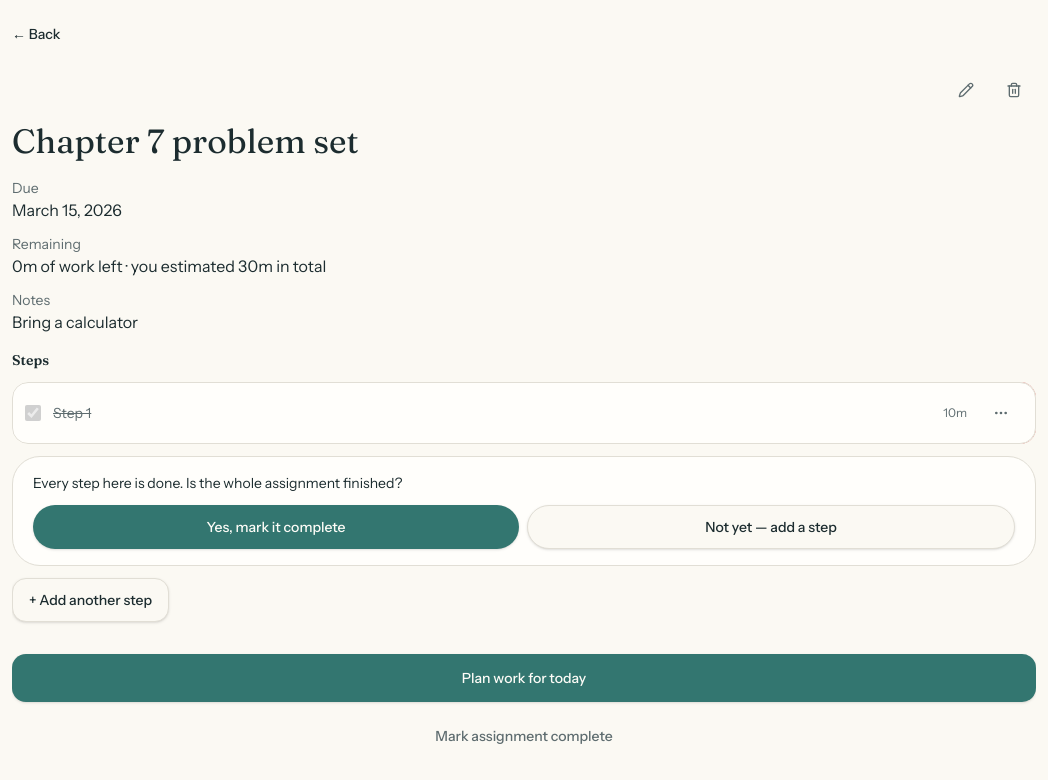
Test: AssignmentDetailPage › warns that progress will be erased when a step is already complete
The width and height of the screenshot is (1048, 780).
Check: the heading "Chapter 7 problem set" is shown, box [12, 120, 359, 162]
Check: the text "Step 1" is shown, box [53, 404, 91, 422]
Click the button named "delete assignment" at (1014, 90), box [992, 68, 1036, 112]
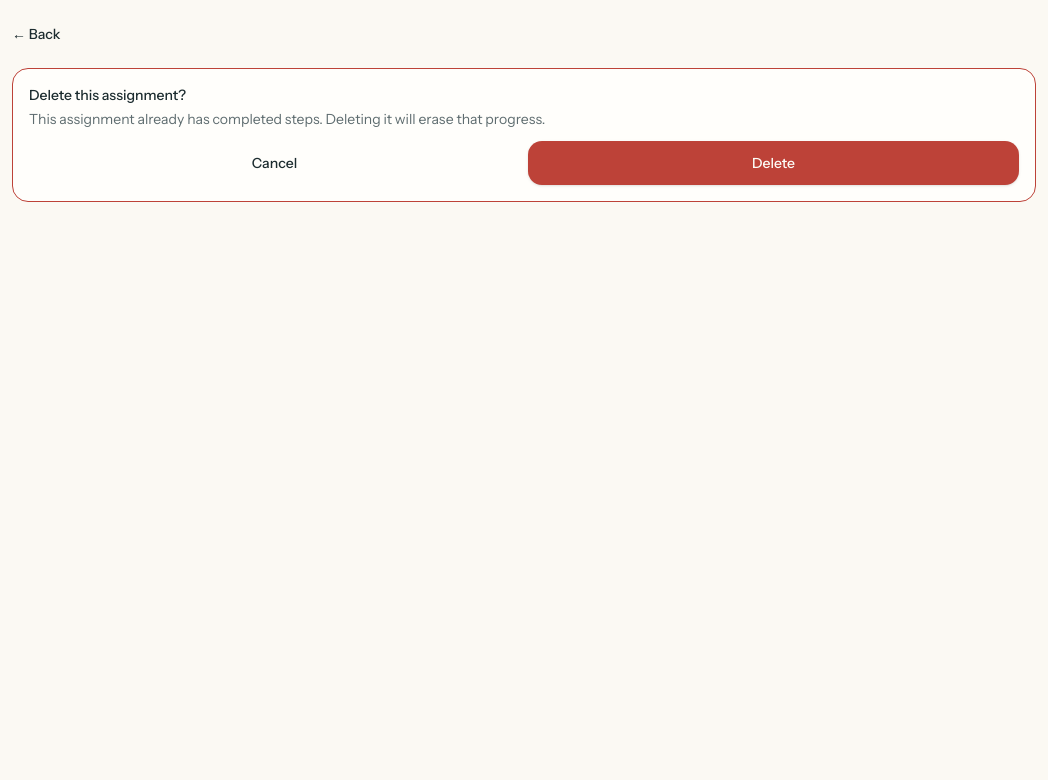
Check: the text "Delete this assignment?" is shown, box [29, 86, 186, 104]
Check: the text "erase that progress" is shown, box [29, 110, 545, 128]
